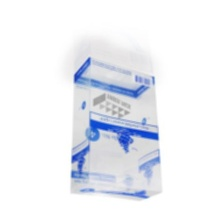plastic_box: (59, 48, 169, 211)
